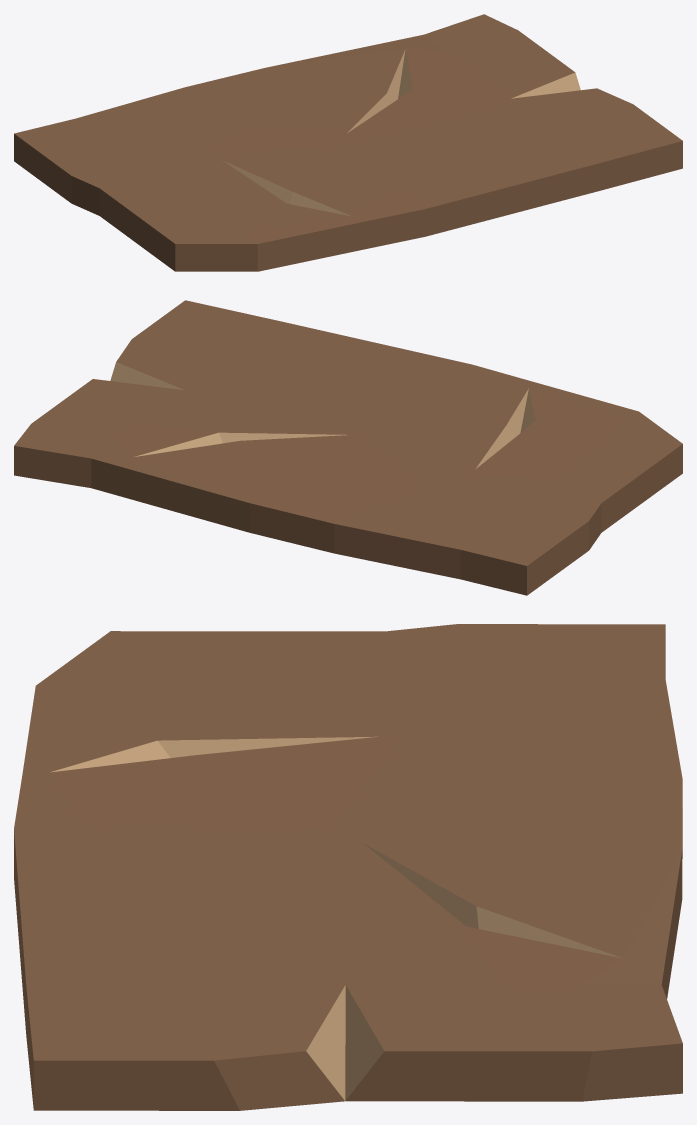
The model's file is SM_Cutting_Board.fbx.
The picture shows the model from 3 angles, top to bottom: view 1: azimuth 30°, elevation 25°; view 2: azimuth 150°, elevation 25°; view 3: azimuth 270°, elevation 25°; orthographic projection. The views are drawn at different scales.
Visible parts, largest first — view 1: SM_Cutting_Board; view 2: SM_Cutting_Board; view 3: SM_Cutting_Board.
Part boxes in pixels (<box>): SM_Cutting_Board: <box>14,14,682,271</box>; SM_Cutting_Board: <box>14,300,682,595</box>; SM_Cutting_Board: <box>14,624,682,1110</box>.
Size of the model in its own units: 53.92 by 2.95 by 34.91.
